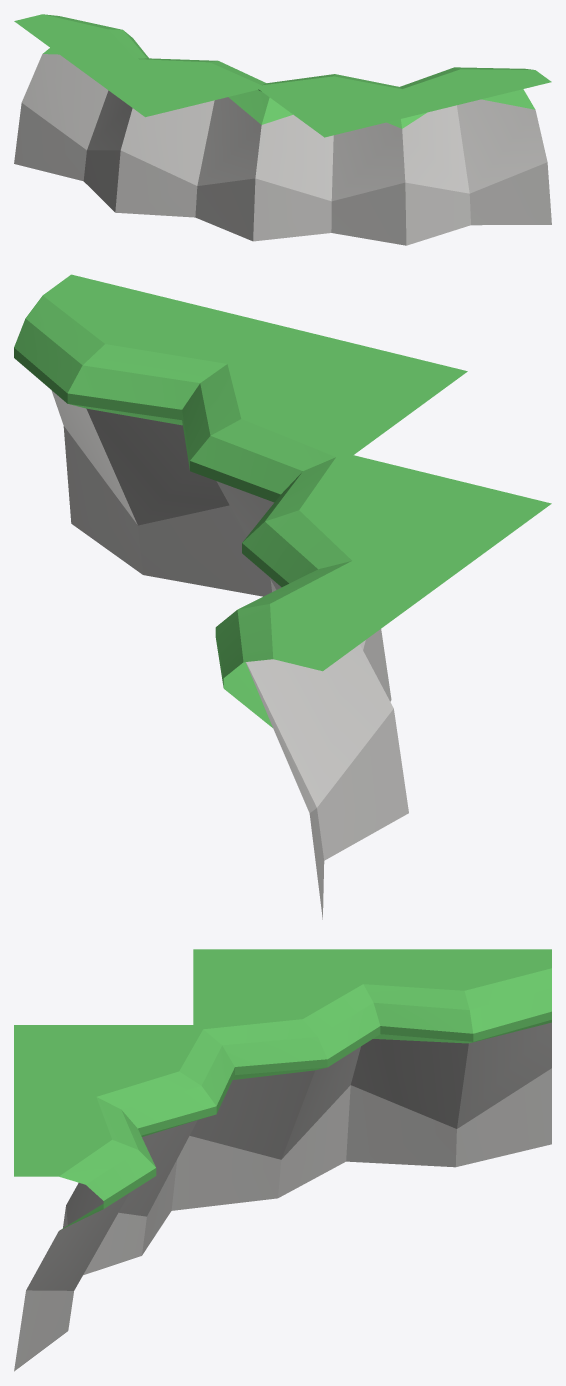
The model's file is Cliff_Terrain_Corner_Inner_3x3_Top.glb.
The picture shows the model from 3 angles, top to bottom: view 1: azimuth 30°, elevation 25°; view 2: azimuth 150°, elevation 25°; view 3: azimuth 270°, elevation 25°; orthographic projection. The views are drawn at different scales.
Visible parts, largest first — view 1: Cliff_Terrain_Corner_Inner_3x3_Top; view 2: Cliff_Terrain_Corner_Inner_3x3_Top; view 3: Cliff_Terrain_Corner_Inner_3x3_Top.
Boxes of the visible parts, x1=… form: Cliff_Terrain_Corner_Inner_3x3_Top: x1=14, y1=14, x2=551, y2=245; Cliff_Terrain_Corner_Inner_3x3_Top: x1=14, y1=274, x2=551, y2=919; Cliff_Terrain_Corner_Inner_3x3_Top: x1=14, y1=949, x2=551, y2=1371.
Size of the model in its own units: 1.59 by 0.636 by 1.59.
